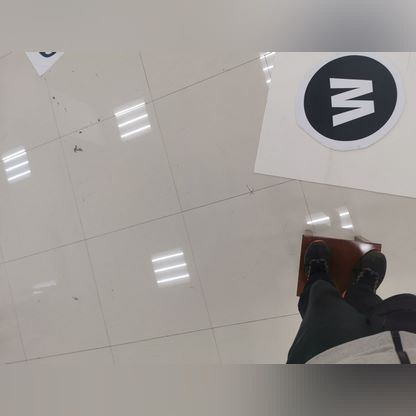W: (293, 46, 399, 142)
